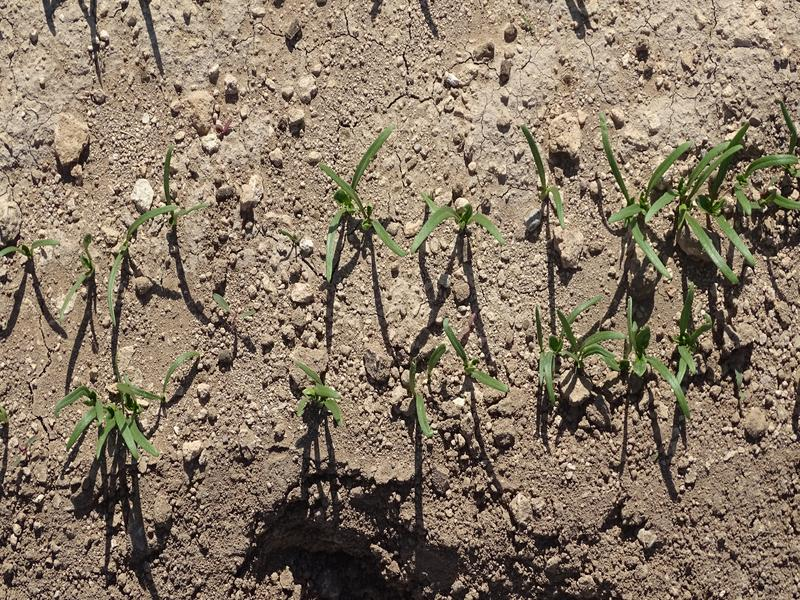Espinaca: (596, 117, 790, 282), (526, 304, 729, 412), (310, 118, 407, 268), (103, 159, 195, 316), (57, 363, 166, 463), (514, 126, 571, 232), (412, 199, 511, 253), (435, 322, 505, 392), (295, 360, 345, 422), (404, 359, 430, 437), (1, 239, 60, 261)
